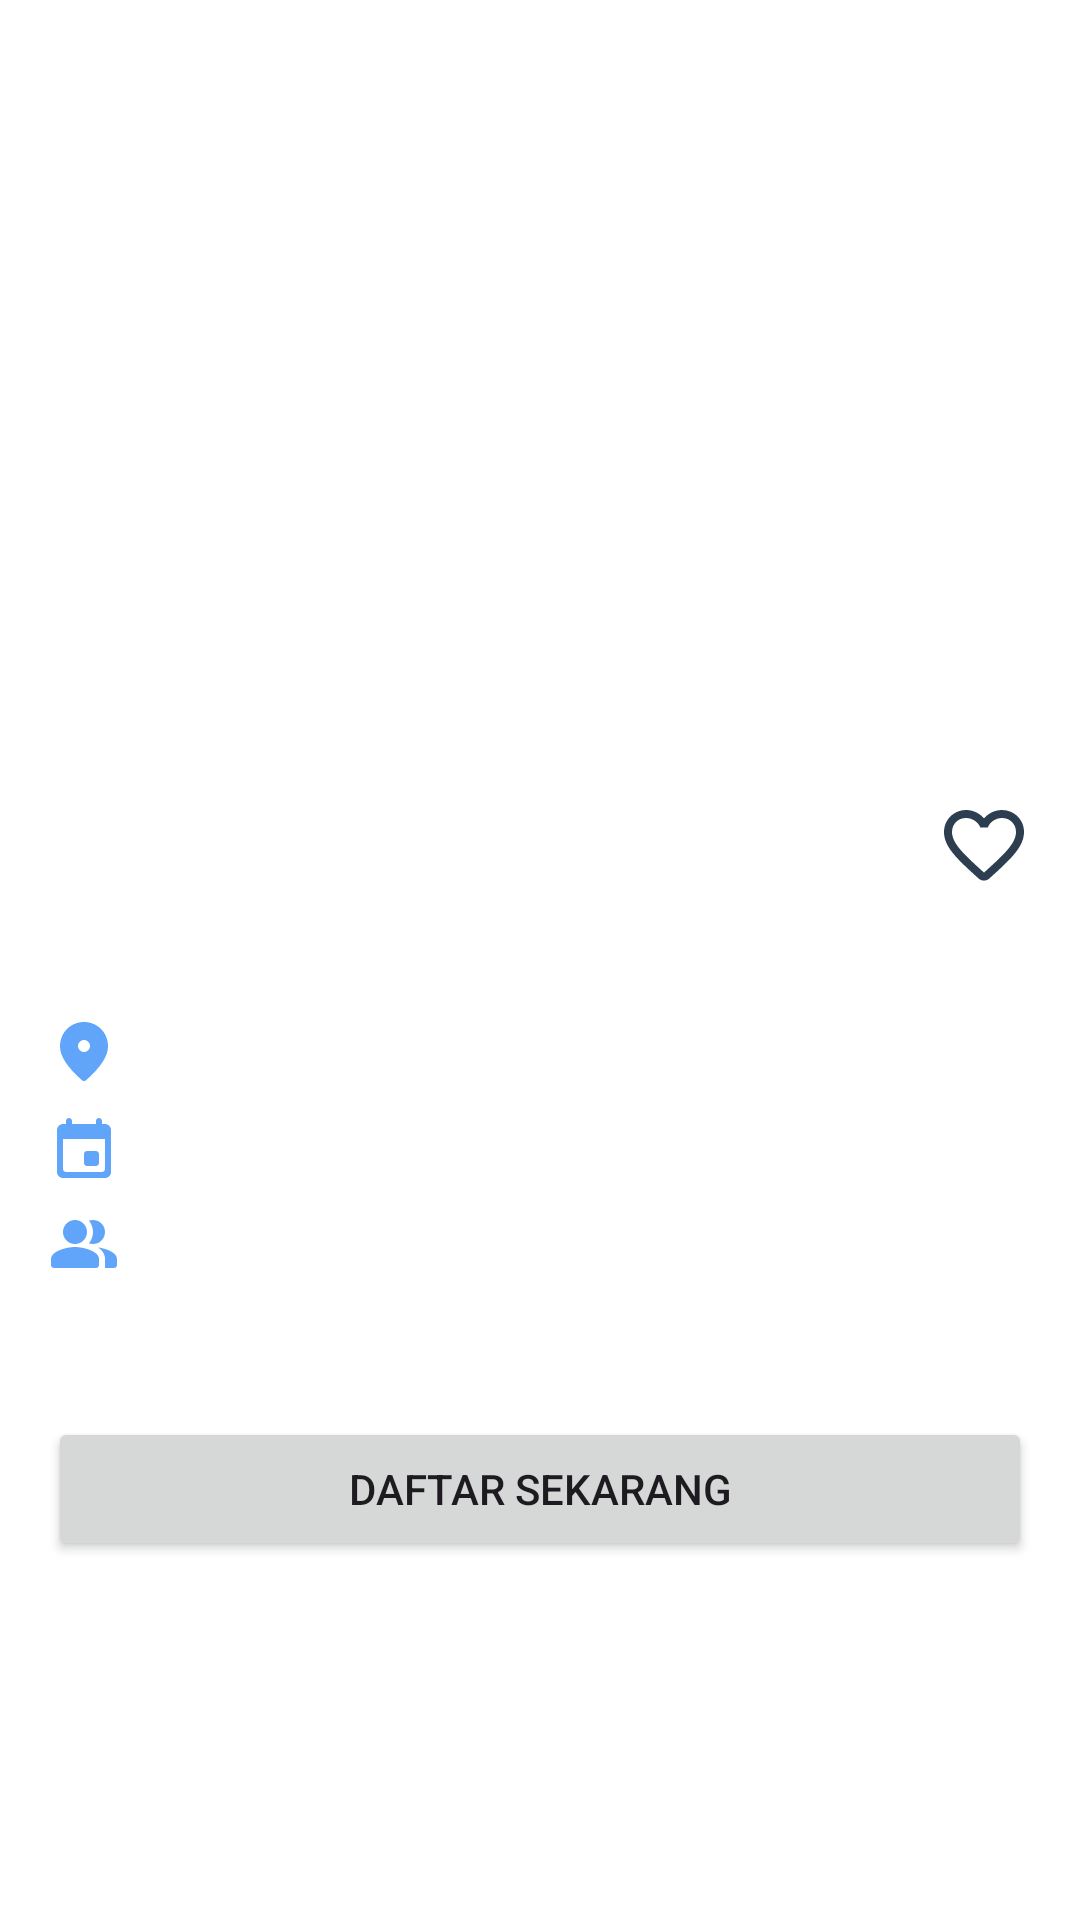

Point at icon controls on the screen. Image size 1080*1920, points as (x=x, y=y).
Favorite Icon: (x=984, y=845)
Location Icon: (x=84, y=1051)
Schedule Icon: (x=84, y=1148)
